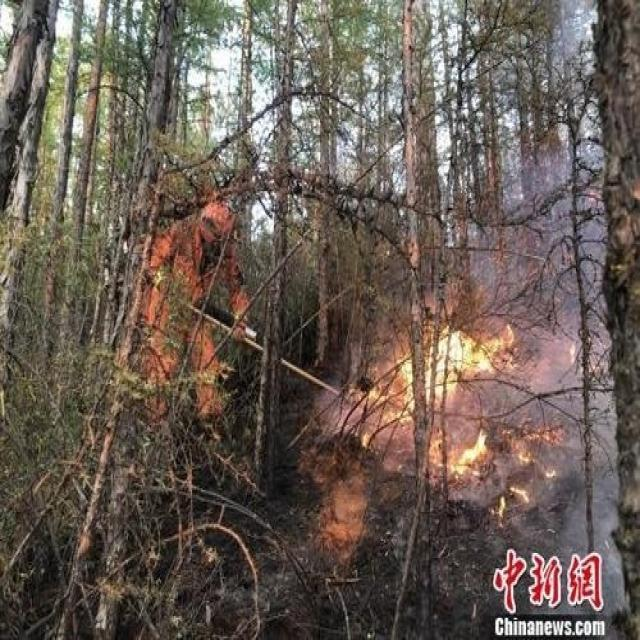Fire: (364, 324, 520, 422), (426, 430, 490, 475), (512, 481, 534, 509), (496, 496, 510, 530)
Smoke: (307, 134, 640, 622), (490, 2, 604, 112)
